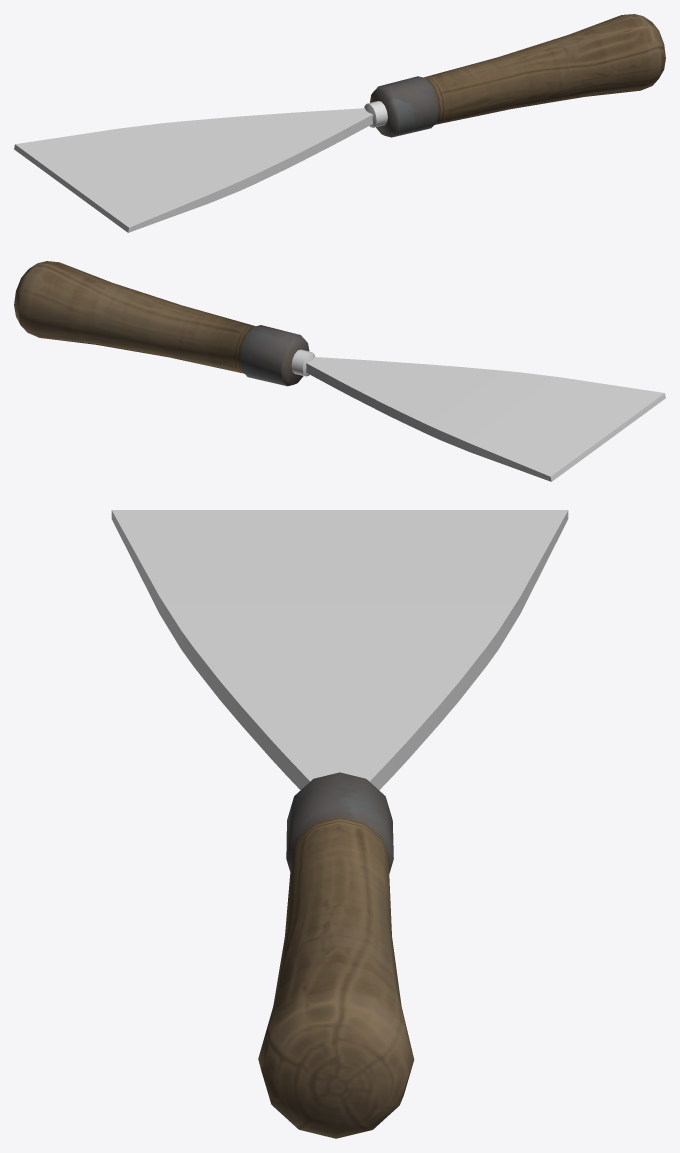
File: SM_Farm_Chisel_01.fbx
3 renders of one model, top to bottom at view 1: azimuth 30°, elevation 25°; view 2: azimuth 150°, elevation 25°; view 3: azimuth 270°, elevation 25°, orthographic. The views are drawn at different scales.
Parts seen in each view (by area): view 1: SM_Farm_Chisel_01_LOD0; view 2: SM_Farm_Chisel_01_LOD0; view 3: SM_Farm_Chisel_01_LOD0.
Boxes of the visible parts, bbox=[...] form: SM_Farm_Chisel_01_LOD0: bbox=[14, 14, 665, 232]; SM_Farm_Chisel_01_LOD0: bbox=[14, 261, 665, 481]; SM_Farm_Chisel_01_LOD0: bbox=[111, 510, 568, 1138].
Size of what is drawn, in the model's own units: 50.03 by 5.81 by 16.97.
